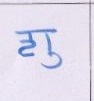u_matra: (42, 52, 64, 70)
